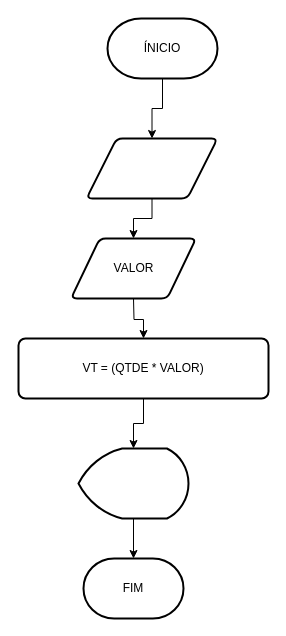
This 286x636 diagram has some shape labels left out. The shapes that lost their labels are listed below. From the top down, each one's centre as x and y in pixels, then its label:
At [151,168]: "QTDE".
At [133,483]: "VT".
